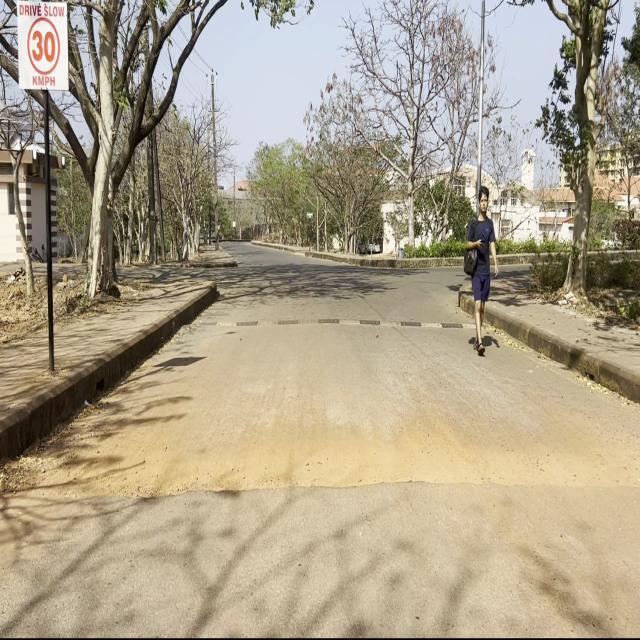Object: (467, 178, 498, 365)
Road: (3, 250, 635, 633)
